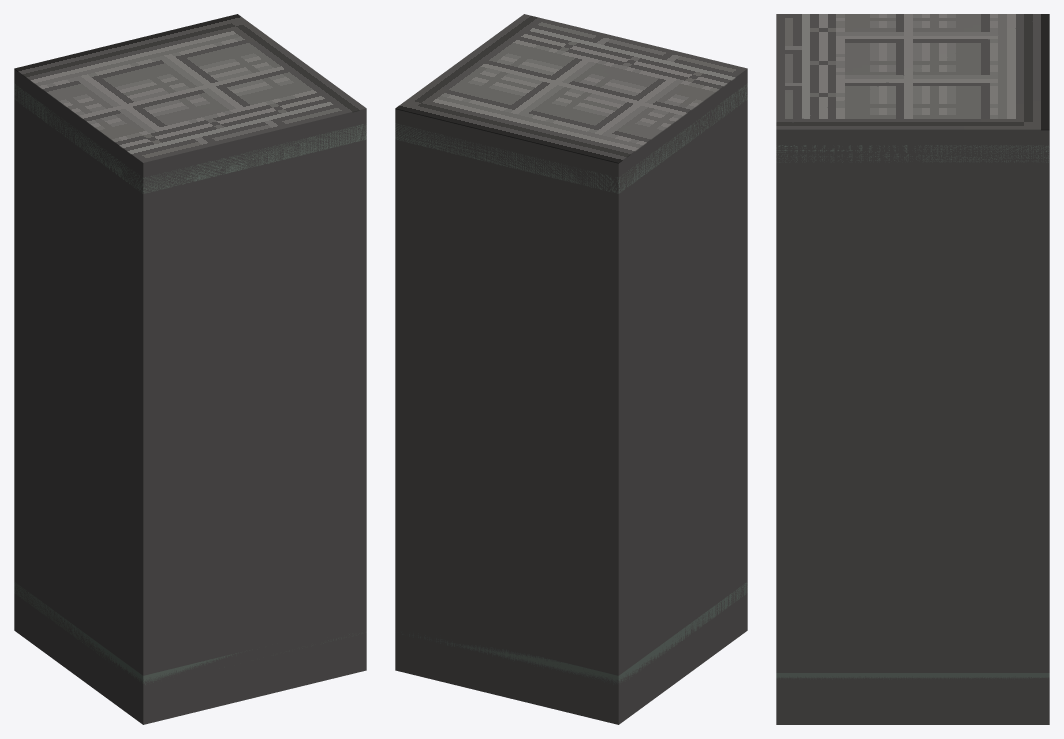
The model's file is CMU3DInteriorVehiclePizzaVanExterior3.glb.
3 views of the same model, side by side, from view 1: azimuth 30°, elevation 25°; view 2: azimuth 150°, elevation 25°; view 3: azimuth 270°, elevation 25° (orthographic). The views are drawn at different scales.
Parts seen in each view (by area): view 1: cabin bulkhead, cabin bulkhead source finish, upper armor trim, lower armor trim; view 2: cabin bulkhead, cabin bulkhead source finish, upper armor trim, lower armor trim; view 3: cabin bulkhead, cabin bulkhead source finish, lower armor trim, upper armor trim.
Part boxes in pixels (bbox=[...]): cabin bulkhead: bbox=[14, 69, 366, 724]; cabin bulkhead source finish: bbox=[14, 14, 366, 163]; upper armor trim: bbox=[14, 83, 366, 193]; lower armor trim: bbox=[14, 582, 366, 684]; cabin bulkhead: bbox=[395, 69, 747, 724]; cabin bulkhead source finish: bbox=[395, 14, 747, 163]; upper armor trim: bbox=[395, 83, 747, 193]; lower armor trim: bbox=[401, 582, 747, 684]; cabin bulkhead: bbox=[776, 130, 1049, 724]; cabin bulkhead source finish: bbox=[776, 14, 1049, 130]; lower armor trim: bbox=[776, 673, 1049, 679]; upper armor trim: bbox=[776, 145, 1049, 162].
Bounding box in the file's own units: 1 × 2.4 × 1.
4 materials, 1 textured.
